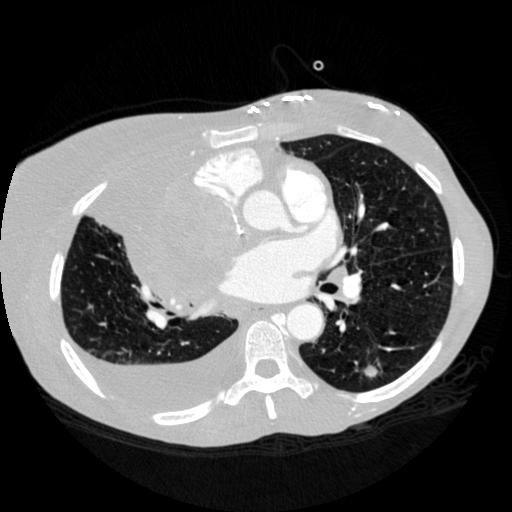nodule: (362, 363, 380, 381)
